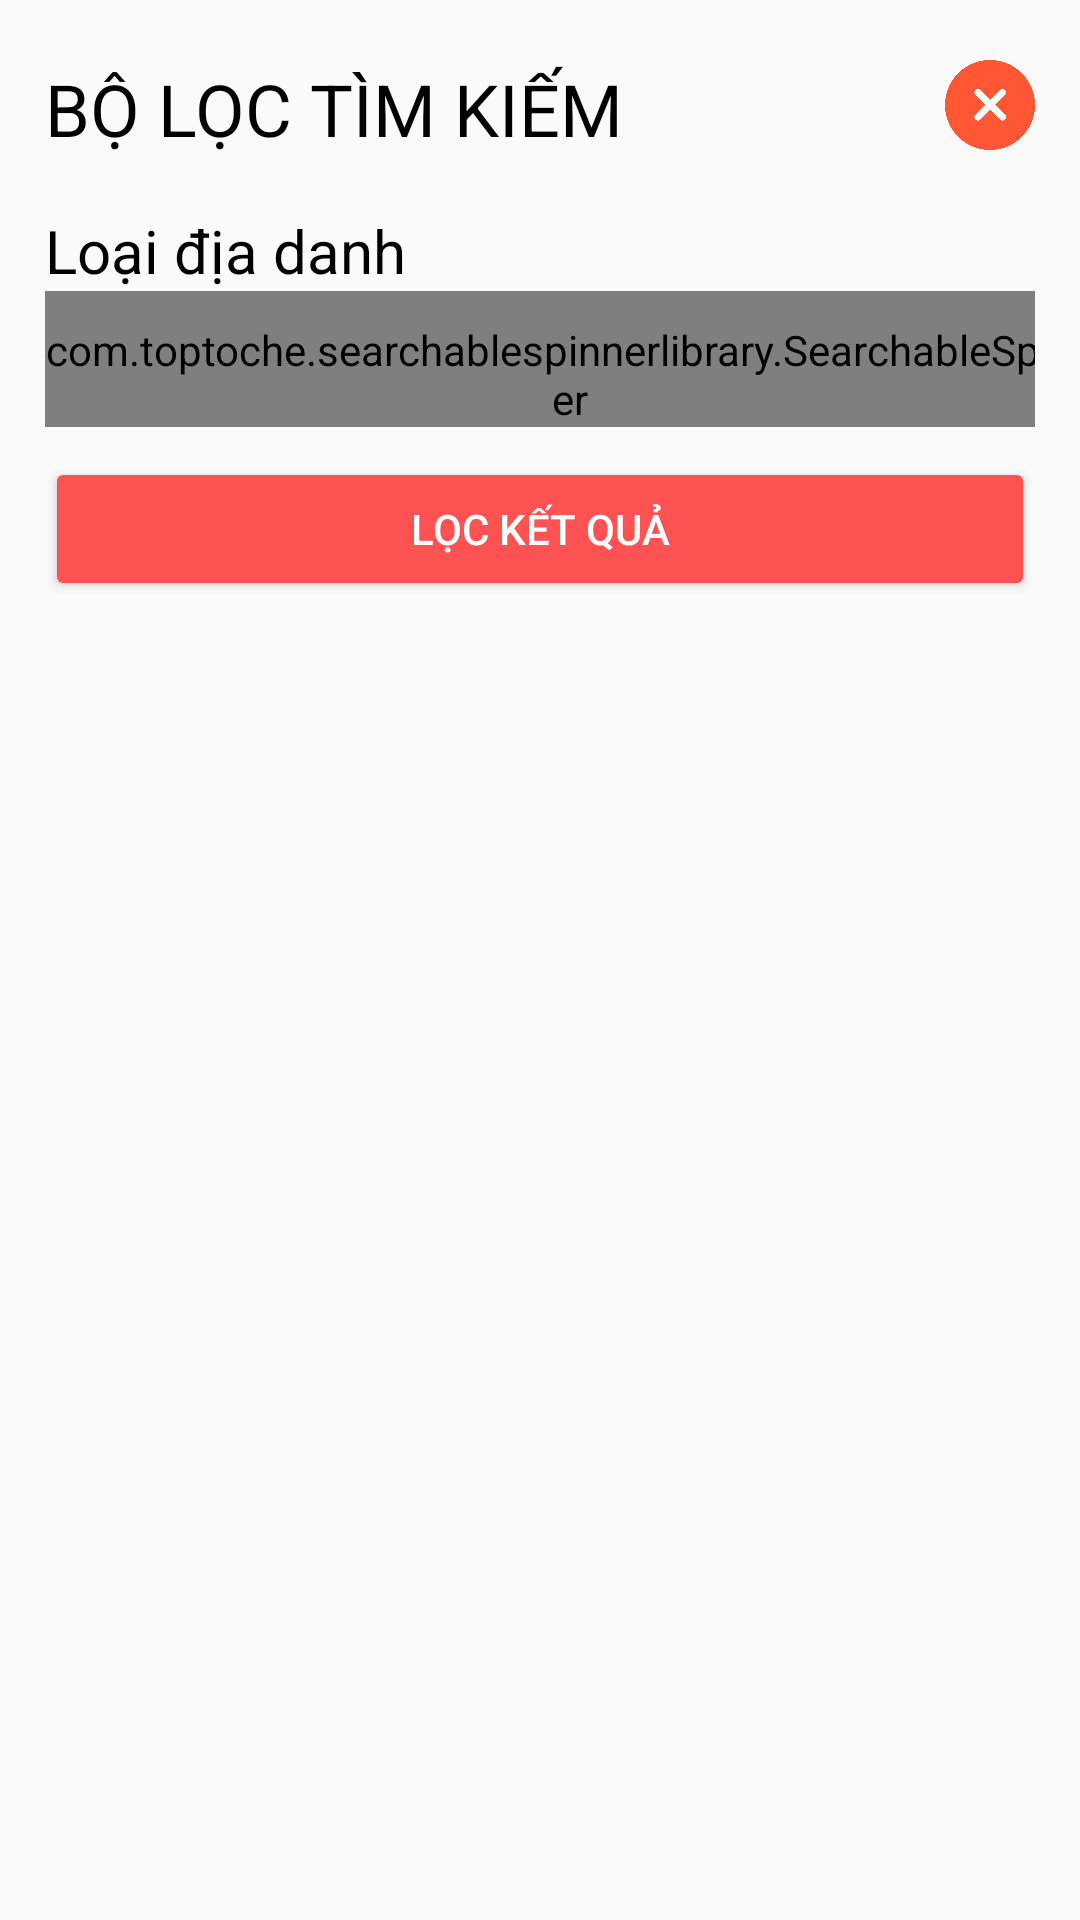

Icons on this 1080 x 1920 Android screen, each with the point to tap as point (x, y):
cancel: point (990, 105)
